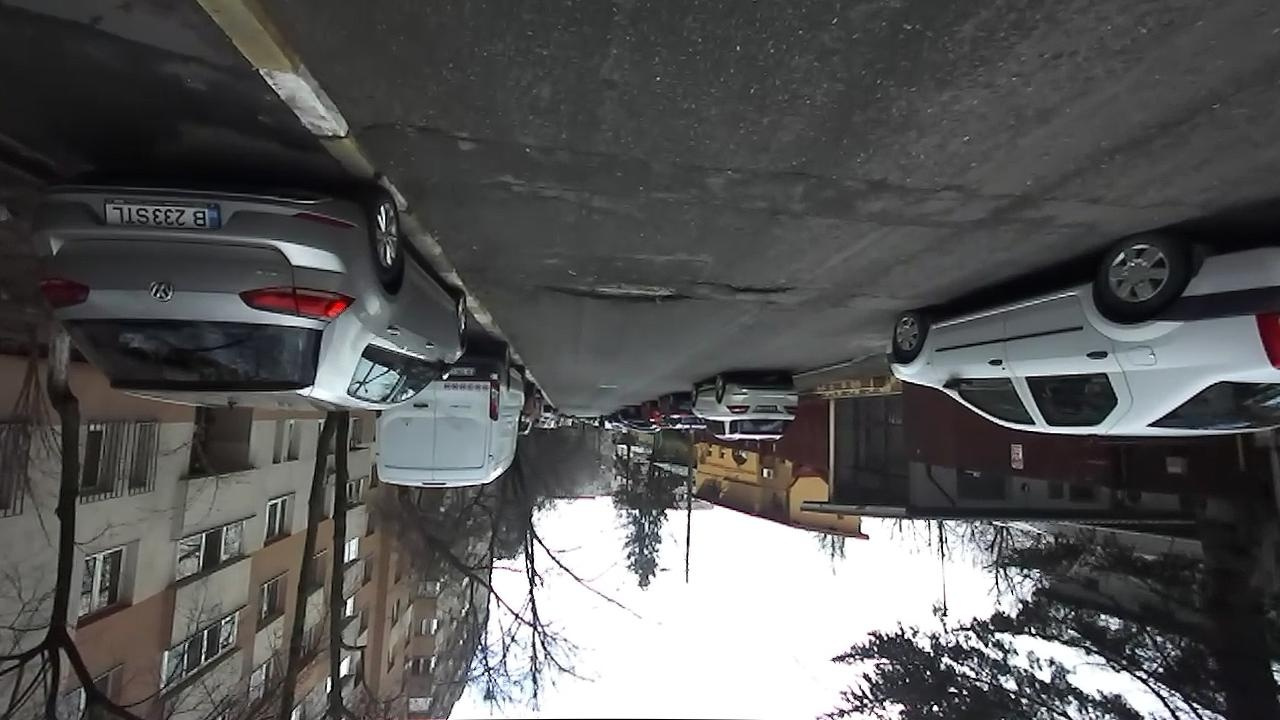pothole: (540, 277, 689, 306), (364, 117, 472, 139), (725, 281, 798, 296), (693, 281, 718, 287)
